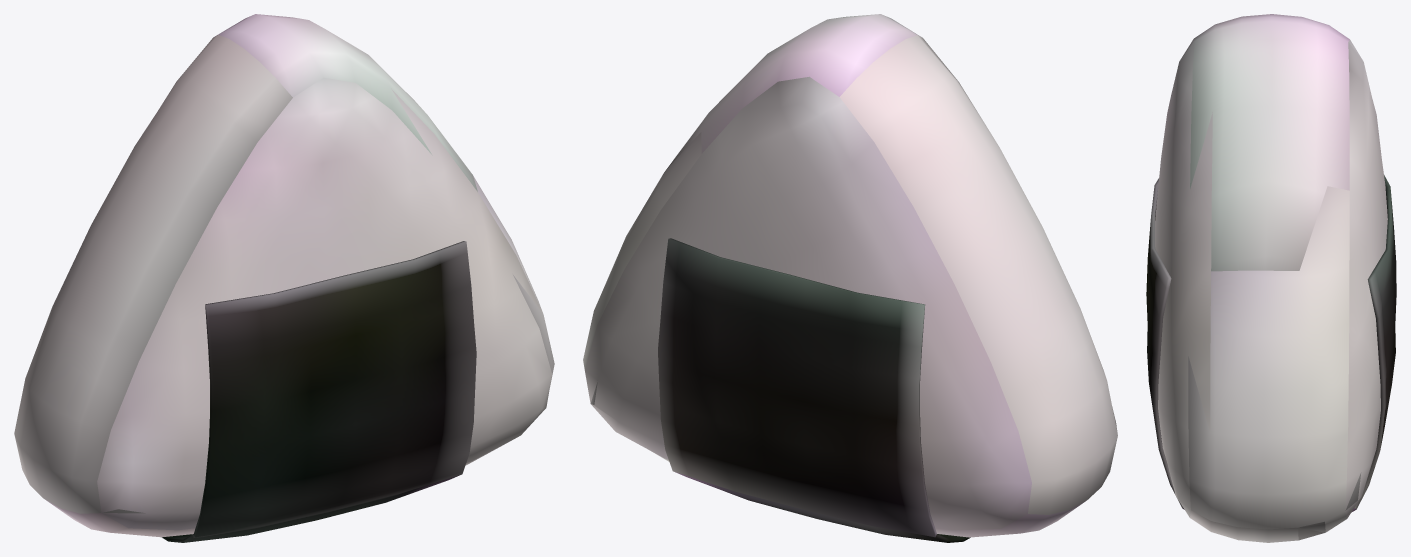
File: onigiri.glb
The picture shows the model from 3 angles, left to right: view 1: azimuth 30°, elevation 25°; view 2: azimuth 150°, elevation 25°; view 3: azimuth 270°, elevation 25°; orthographic projection. The views are drawn at different scales.
Parts seen in each view (by area): view 1: onigiri_Material_0; view 2: onigiri_Material_0; view 3: onigiri_Material_0.
Part boxes in pixels (x1,y1,x2,y2): onigiri_Material_0: (14, 14, 554, 542); onigiri_Material_0: (583, 14, 1117, 542); onigiri_Material_0: (1146, 14, 1396, 542).
Bounding box in the file's own units: 1 × 0.9264 × 0.4549.
Materials: 1 (1 with a texture image).
